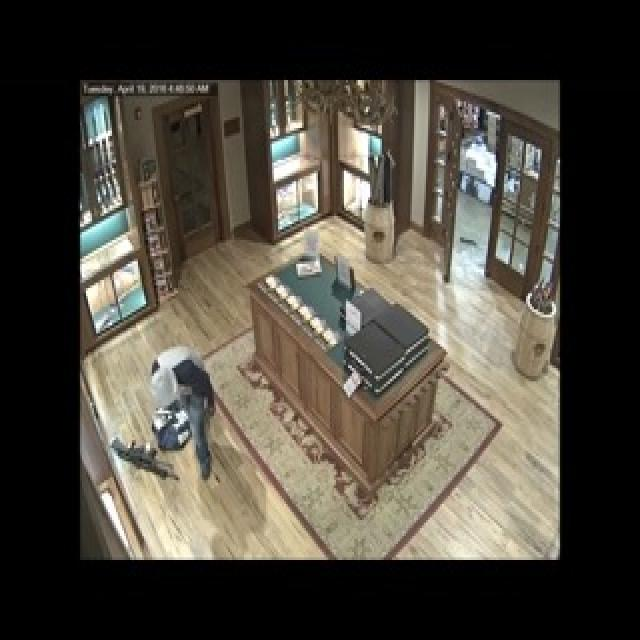thief: (143, 327, 223, 478)
